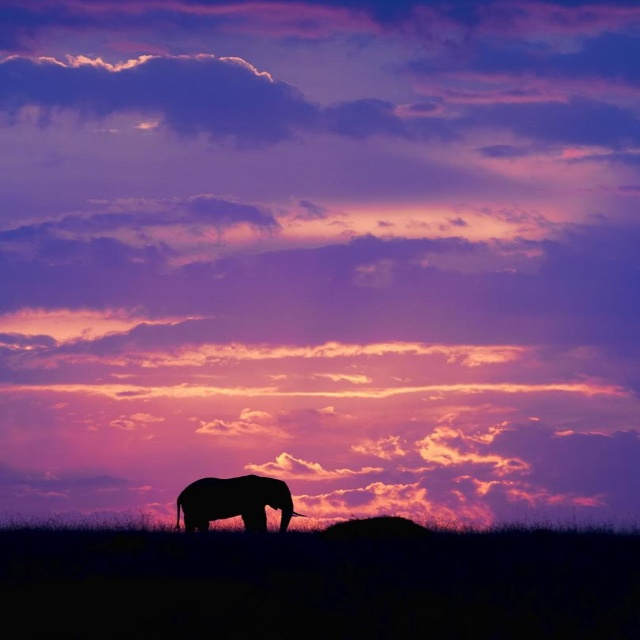Elephant: (174, 476, 305, 540)
